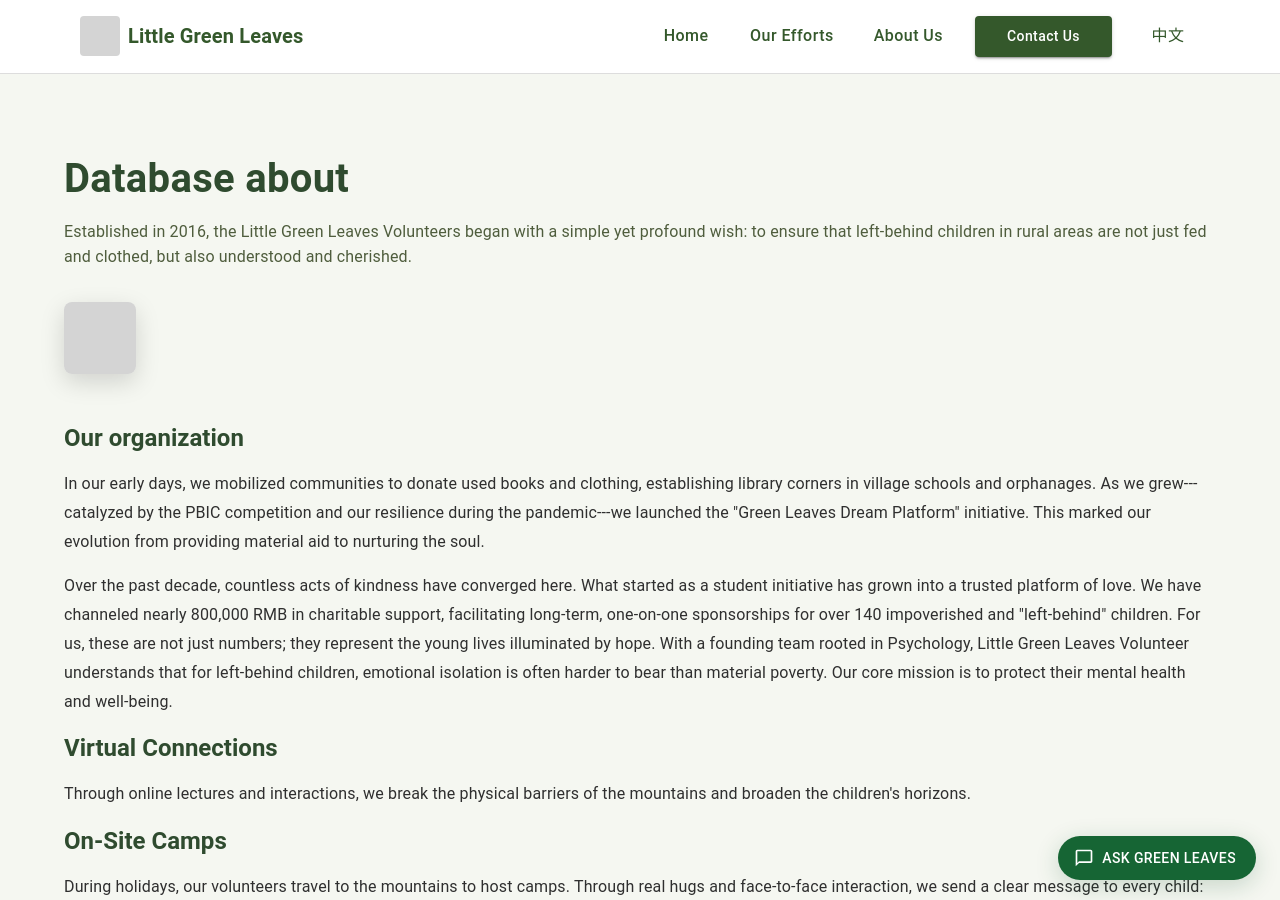
Scenario: About page uses API i18next resources and re-fetches when language changes
Expected: the heading "Database about" is shown, [64,154,349,202]
Click the button "中文": click(1168, 36) [1136,16,1200,56]
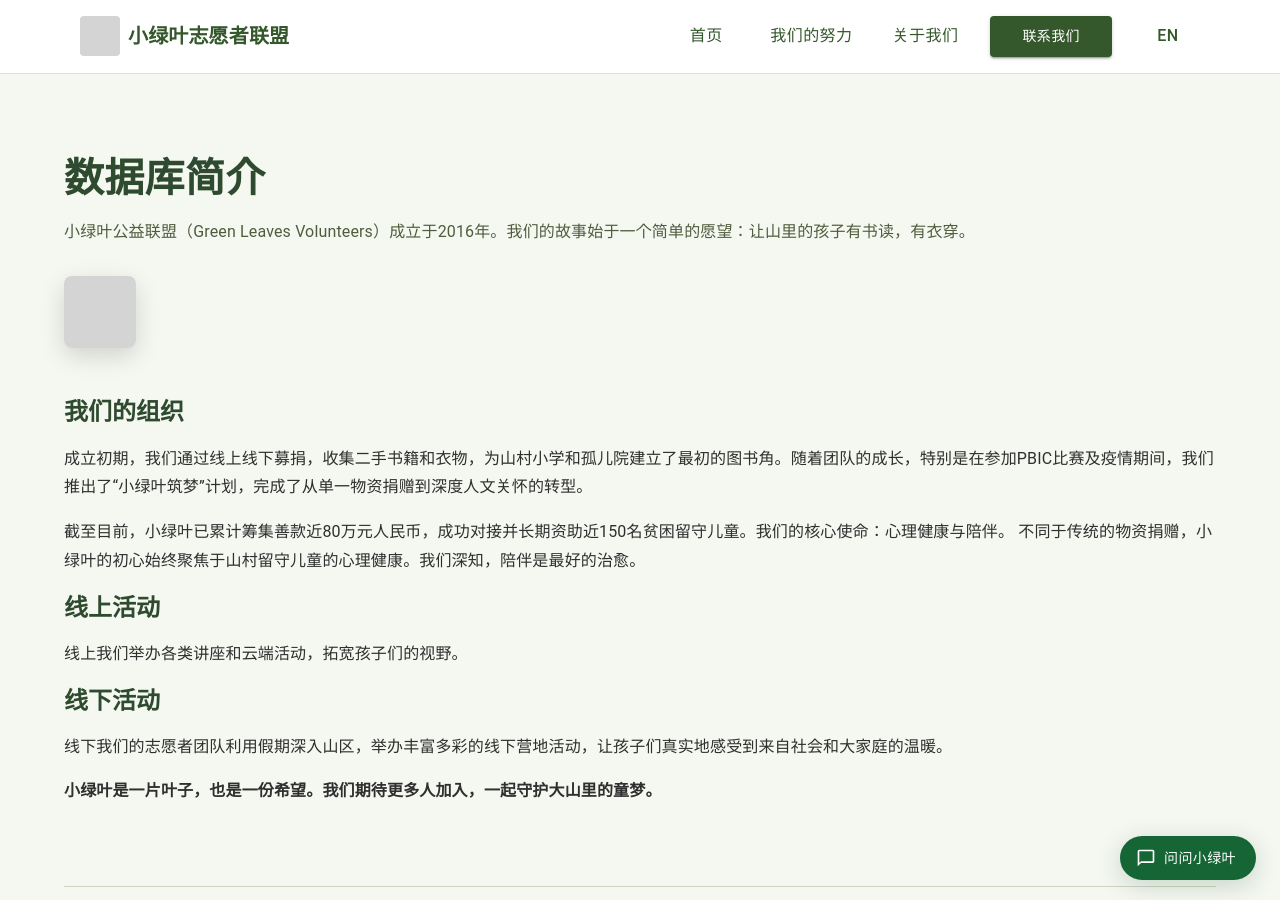
Now the heading "数据库简介" is shown, box [64,154,266,202]
